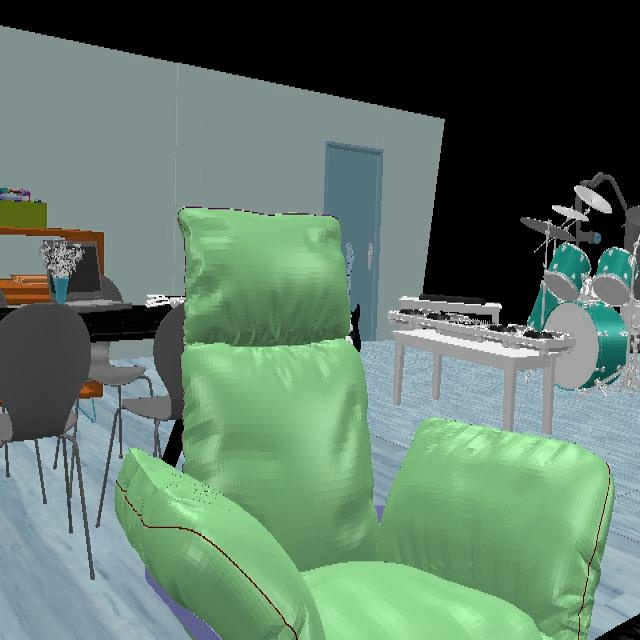chair: (0, 305, 148, 578), (98, 305, 185, 526)
laptop: (66, 242, 131, 313), (48, 272, 56, 302)
sofa: (116, 211, 614, 638)
table: (392, 328, 556, 434), (80, 305, 171, 342)
